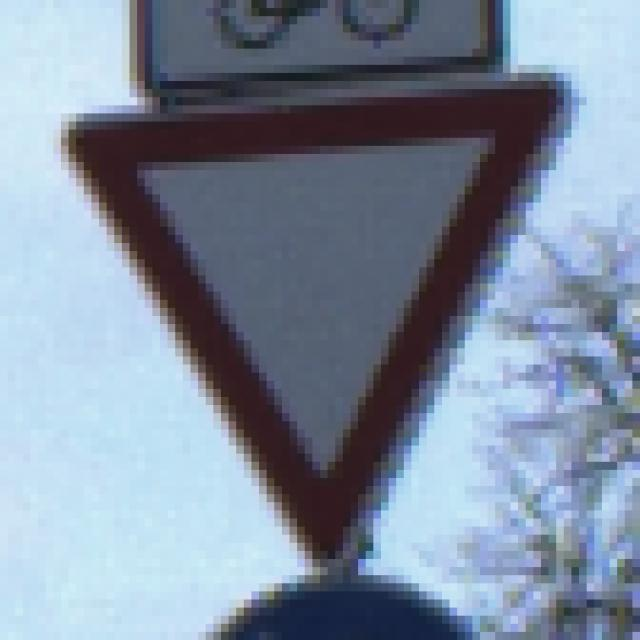Give Way: (54, 58, 588, 584)
